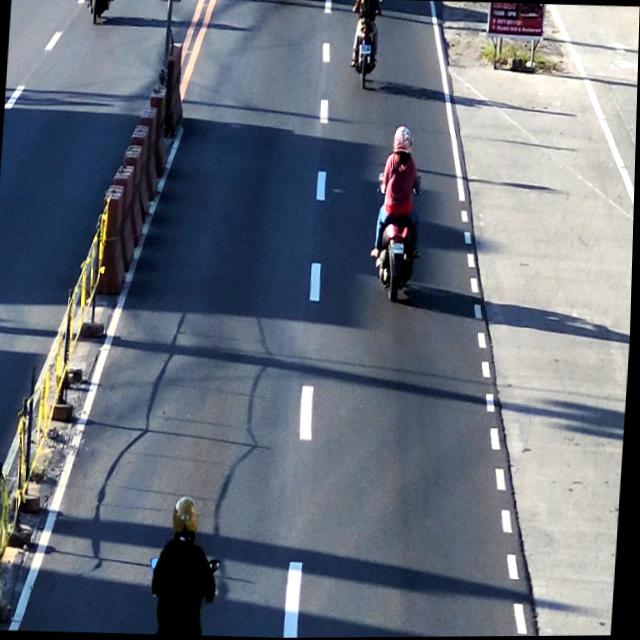License-Plate: (389, 242, 407, 255)
Motorcycle: (150, 490, 224, 636), (373, 119, 427, 311), (352, 0, 378, 89)
